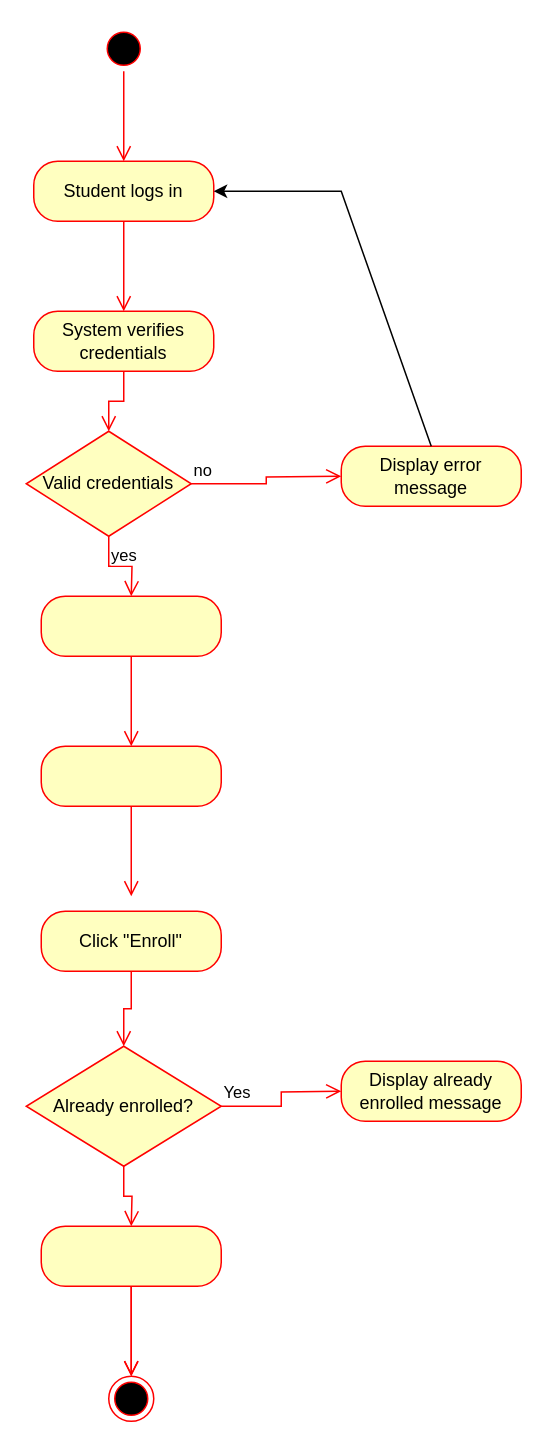
The diagram is 548 pixels wide and 1448 high, and some of its shapes have lost their labels. The shapes that lost their labels are listed below. From the top down, each one's box as (x1, y1, x2, y2) in pixels, then its label:
(40, 595, 221, 656): Student browses available courses
(40, 745, 221, 806): Selects a course to view details
(40, 1225, 221, 1286): System confirms successful enrolment
